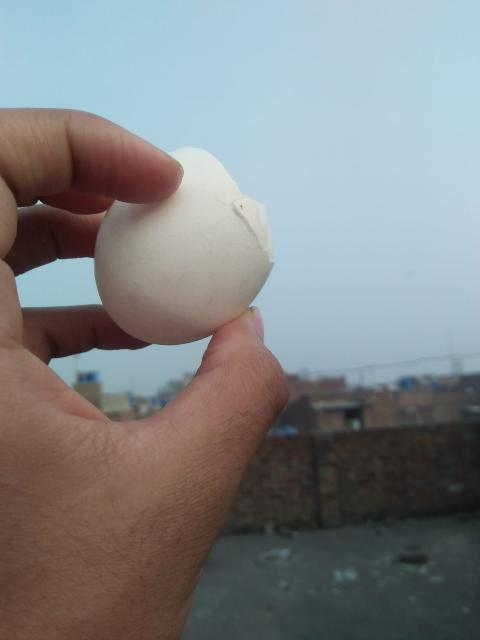Roto: (92, 145, 275, 346)
